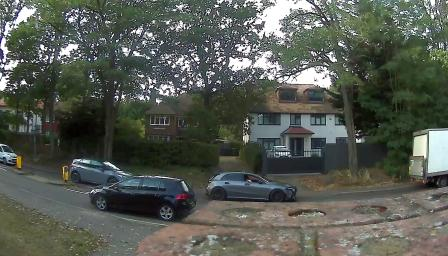Cars: (87, 179, 198, 222), (212, 167, 298, 205), (64, 155, 136, 191), (407, 132, 448, 188), (0, 143, 20, 167)
